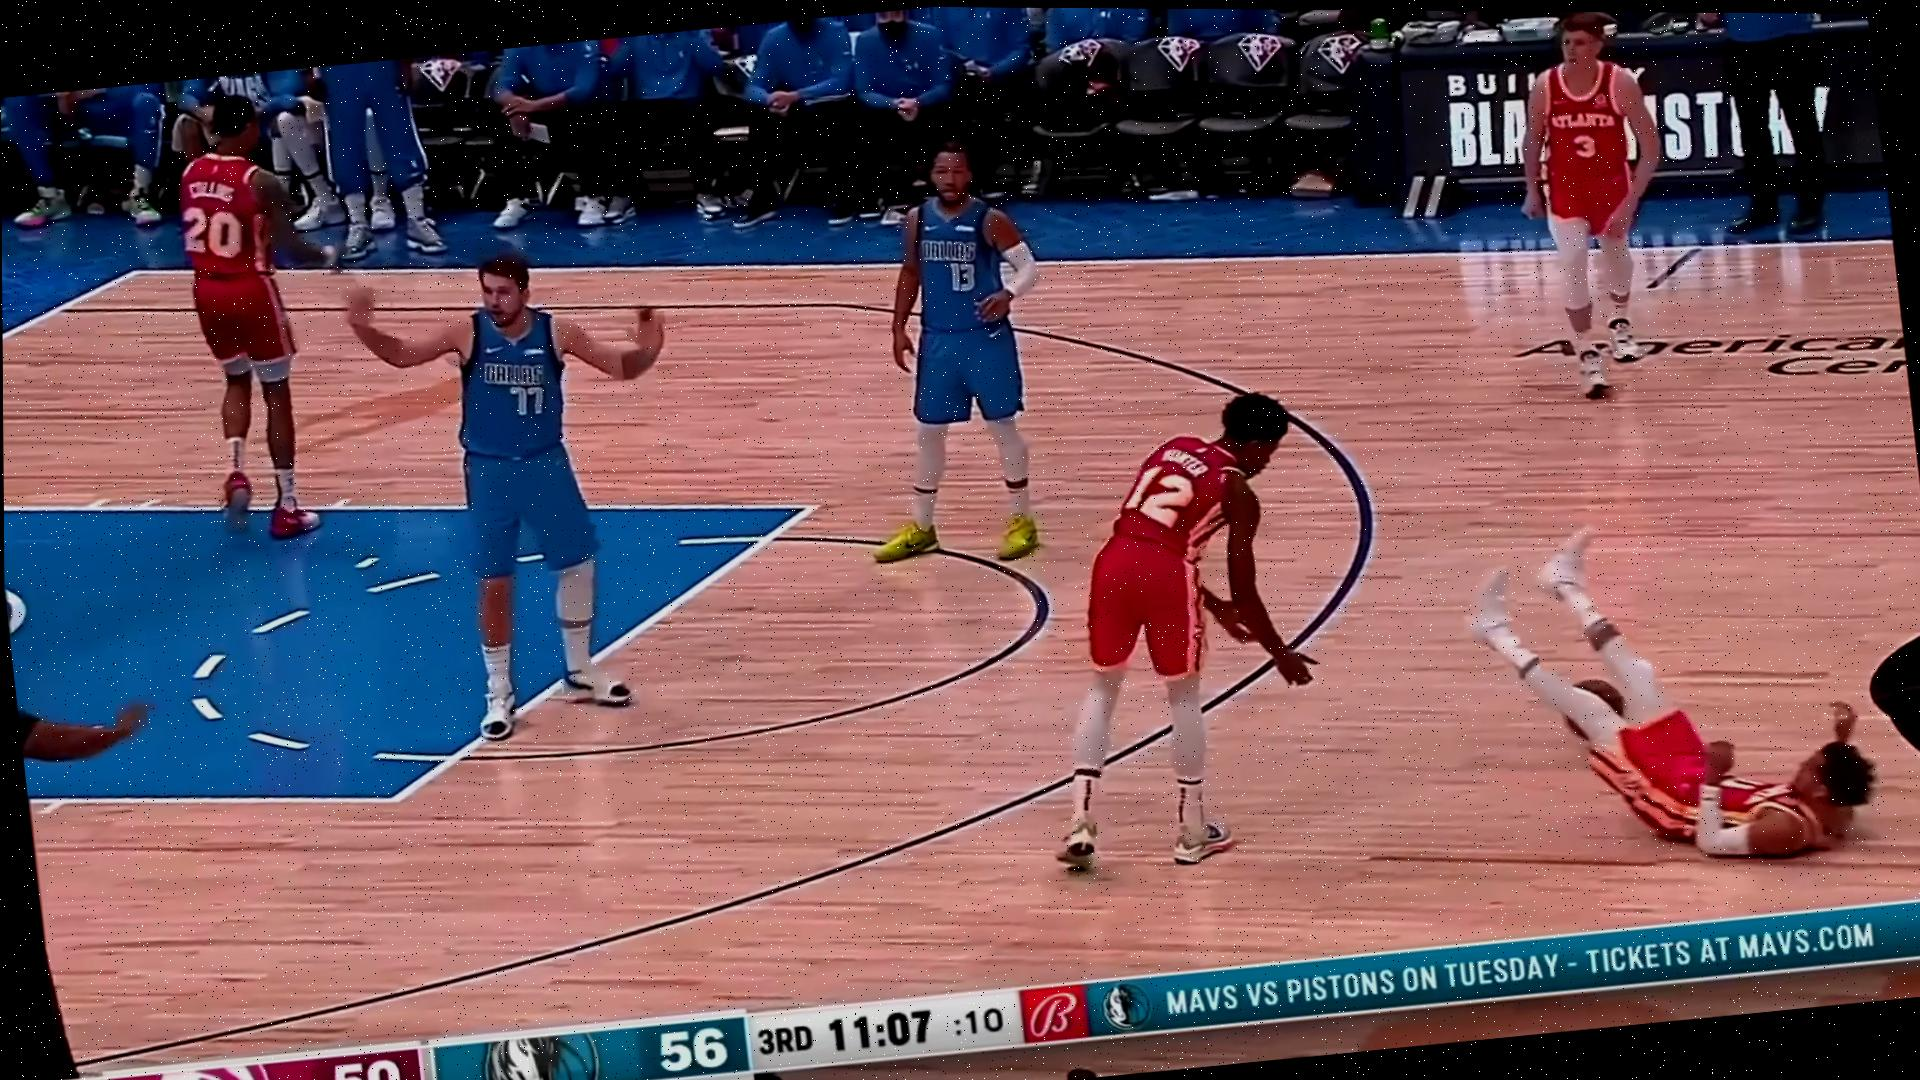no_foul: (840, 111, 1348, 899)
